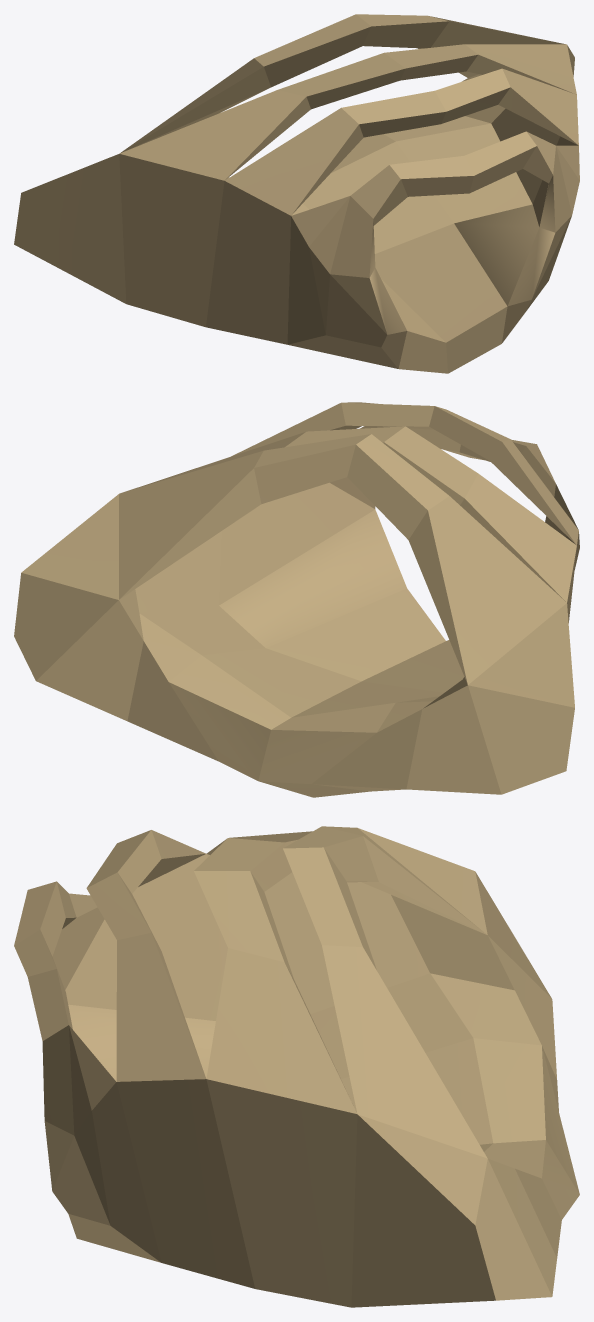
Rendered from Skeleton_ribs.fbx.
3 renders of one model, top to bottom at view 1: azimuth 30°, elevation 25°; view 2: azimuth 150°, elevation 25°; view 3: azimuth 270°, elevation 25°, orthographic. The views are drawn at different scales.
Visible parts, largest first — view 1: Skeleton_ribs; view 2: Skeleton_ribs; view 3: Skeleton_ribs.
Part boxes in pixels (x1,y1,x2,y2): Skeleton_ribs: (14,14,579,373); Skeleton_ribs: (14,402,579,797); Skeleton_ribs: (14,826,579,1307).
Bounding box in the file's own units: 39.09 × 21.72 × 26.4.
